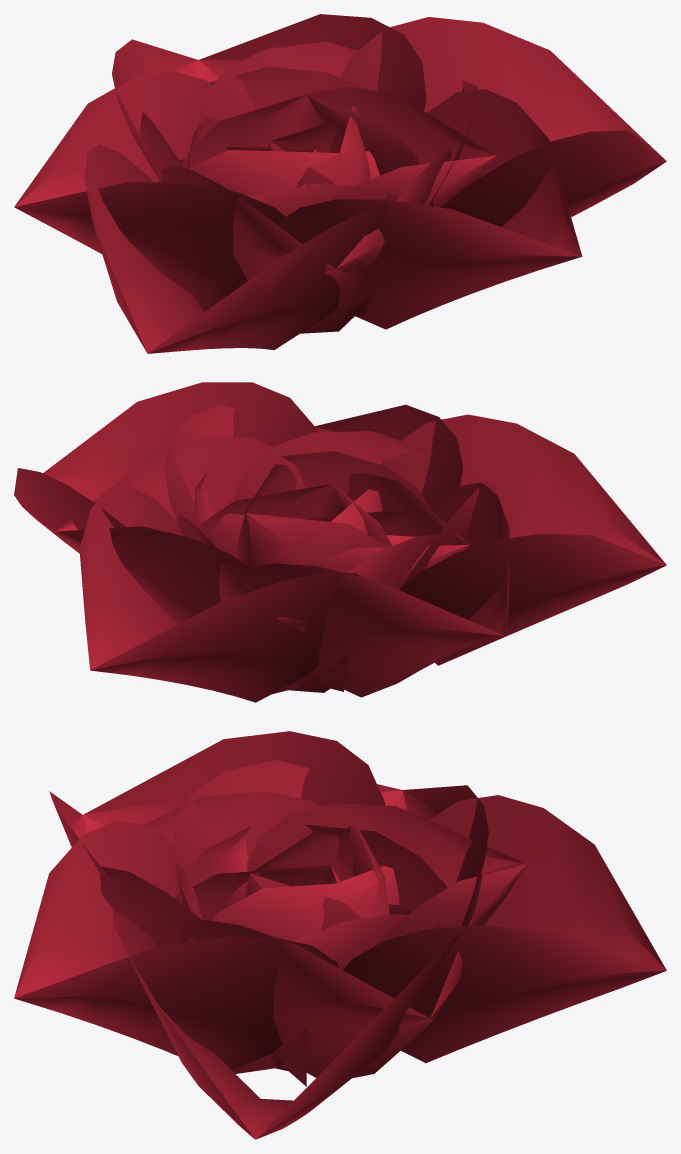
File: rose.glb
3 views of the same model, one above another, from view 1: azimuth 30°, elevation 25°; view 2: azimuth 150°, elevation 25°; view 3: azimuth 270°, elevation 25° (orthographic). The views are drawn at different scales.
Parts seen in each view (by area): view 1: rose; view 2: rose; view 3: rose.
Part boxes in pixels (x1=…): rose: x1=14, y1=14, x2=666, y2=353; rose: x1=14, y1=382, x2=666, y2=702; rose: x1=14, y1=731, x2=666, y2=1139.
Size of the model in its own units: 0.1296 by 0.0389 by 0.1152.
